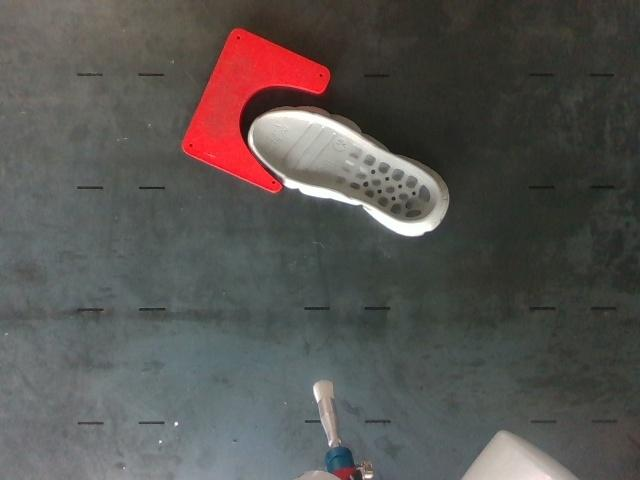shoes: (253, 112, 439, 222)
